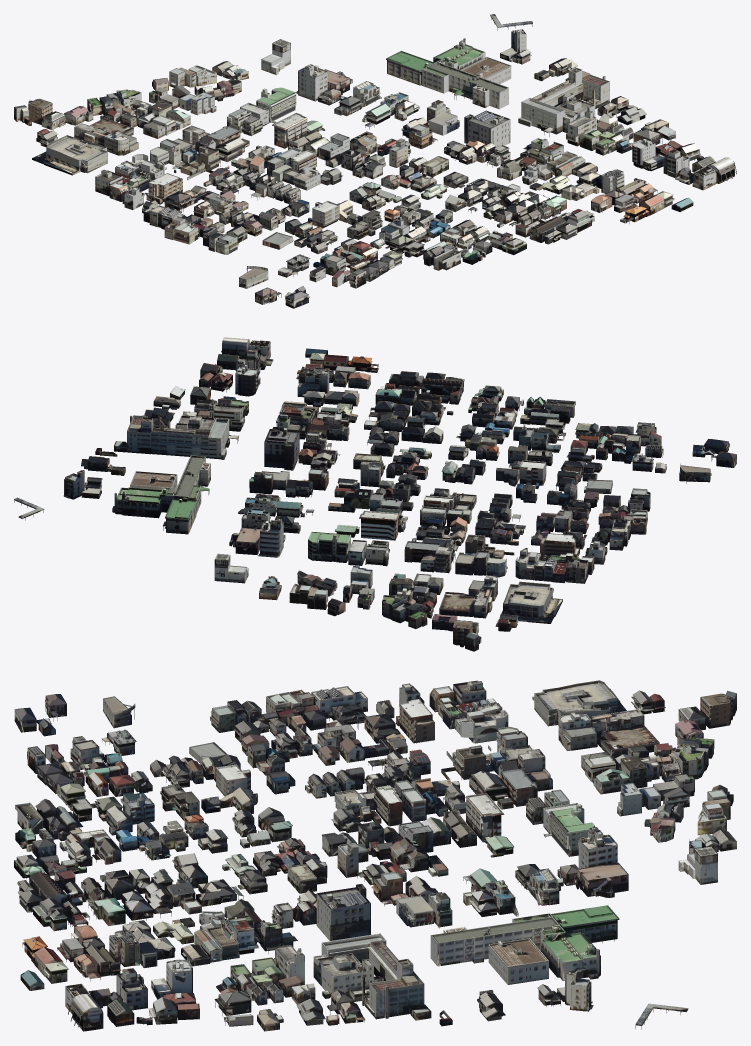
File: station-4-2-packed.glb
3 views of the same model, one above another, from view 1: azimuth 30°, elevation 25°; view 2: azimuth 150°, elevation 25°; view 3: azimuth 270°, elevation 25° (orthographic). The views are drawn at different scales.
Size of the model in its own units: 388 by 23.64 by 347.
Materials: 19 (18 with a texture image).
